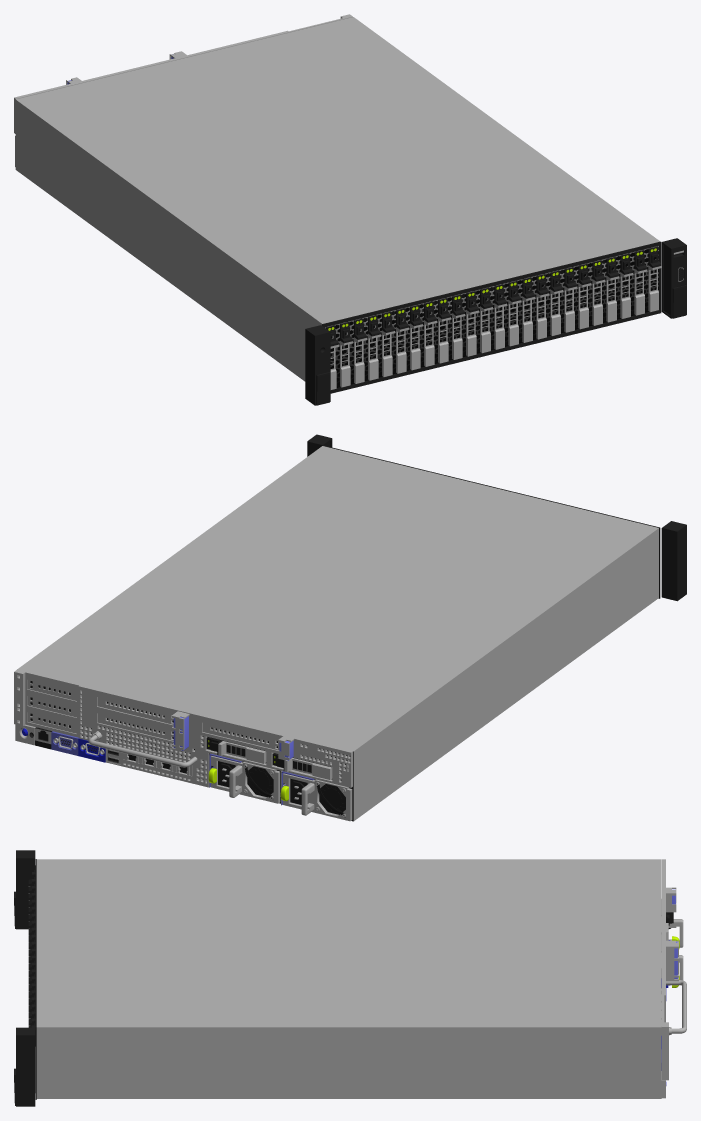
Rendered from Dell_R730XD.fbx.
The picture shows the model from 3 angles, top to bottom: view 1: azimuth 30°, elevation 25°; view 2: azimuth 150°, elevation 25°; view 3: azimuth 270°, elevation 25°; orthographic projection. The views are drawn at different scales.
Parts seen in each view (by area): view 1: Dell_R730XD; view 2: Dell_R730XD; view 3: Dell_R730XD.
Part boxes in pixels (bbox=[...]): Dell_R730XD: bbox=[14, 14, 686, 405]; Dell_R730XD: bbox=[14, 434, 686, 821]; Dell_R730XD: bbox=[14, 850, 686, 1106].
Size of the model in its own units: 471 by 86.38 by 725.
7 materials, 1 textured.
